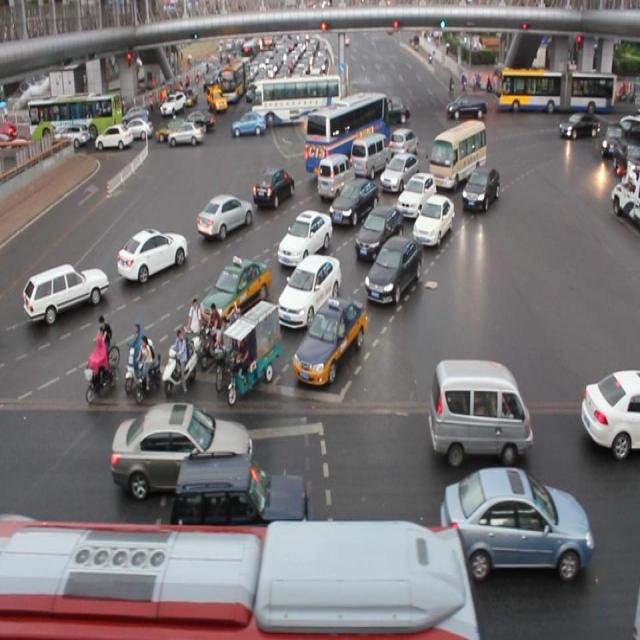car: (439, 462, 592, 578), (112, 398, 252, 494), (175, 450, 310, 533), (292, 299, 368, 386), (199, 255, 271, 334), (580, 364, 640, 456), (24, 258, 109, 322), (276, 252, 341, 330), (362, 231, 423, 307), (117, 224, 187, 282), (276, 211, 332, 268), (350, 208, 401, 264), (197, 192, 253, 241), (328, 177, 379, 225), (412, 194, 455, 247), (254, 167, 297, 208), (397, 172, 437, 214), (381, 149, 420, 189), (462, 168, 499, 210), (390, 126, 418, 162)
truck: (428, 355, 532, 464), (430, 120, 486, 186), (351, 134, 392, 178), (315, 156, 353, 202)
van: (1, 514, 476, 640), (306, 92, 392, 178)
